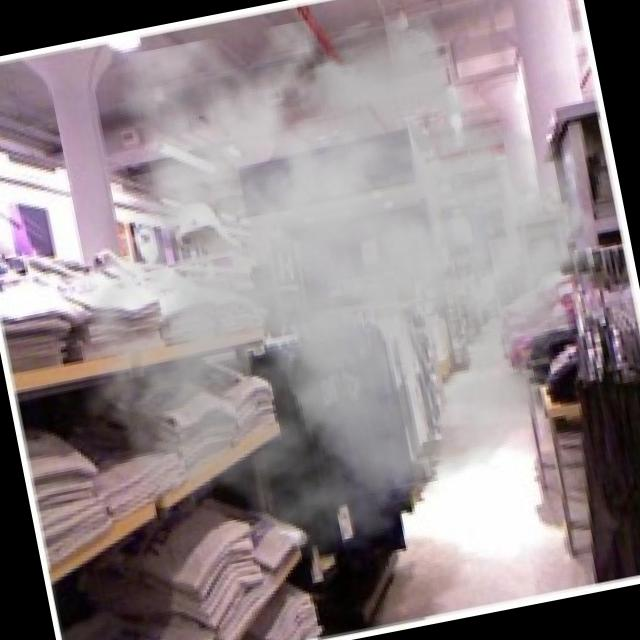Smoke: (17, 0, 640, 598)
